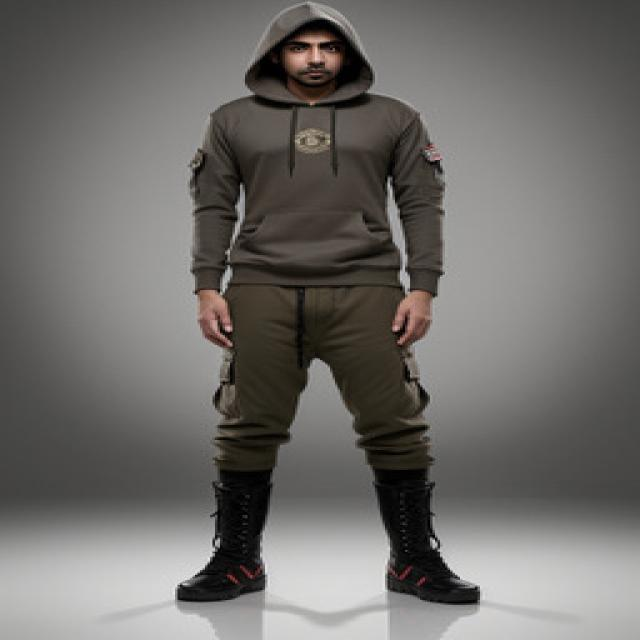Ai human 2: (160, 0, 494, 626)
